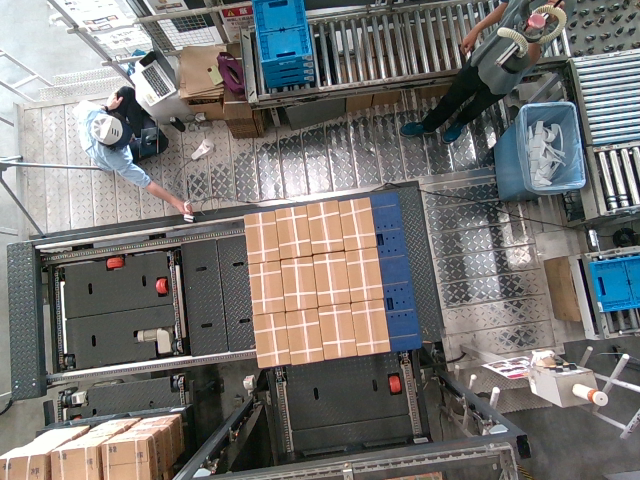box: (351, 298, 390, 354), (302, 201, 342, 253), (319, 303, 355, 360), (312, 249, 348, 304), (246, 260, 283, 313), (287, 307, 322, 363), (242, 208, 278, 262), (252, 311, 286, 367), (273, 205, 309, 257), (340, 196, 376, 248), (346, 245, 381, 297), (283, 257, 318, 307)
